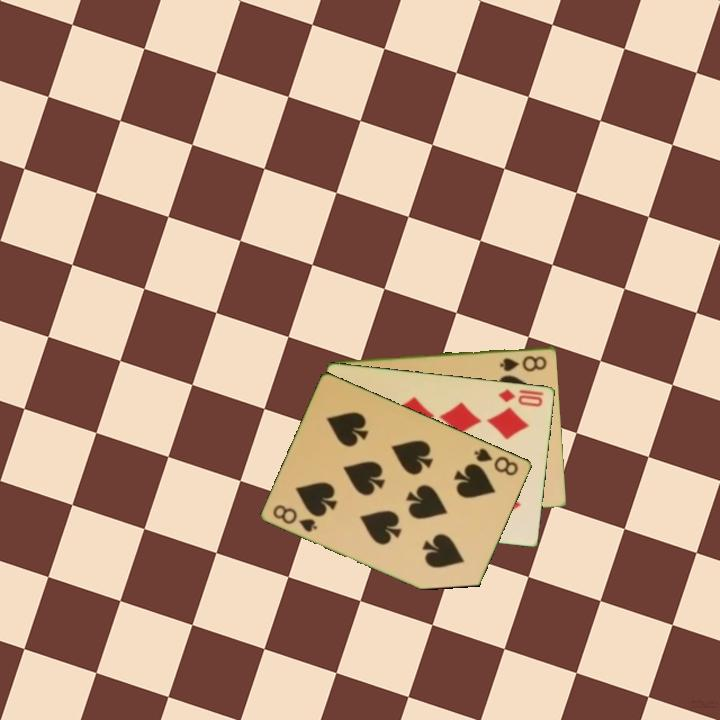10d: (495, 385, 547, 409)
8s: (471, 444, 521, 479), (270, 501, 321, 535), (497, 352, 550, 374)
